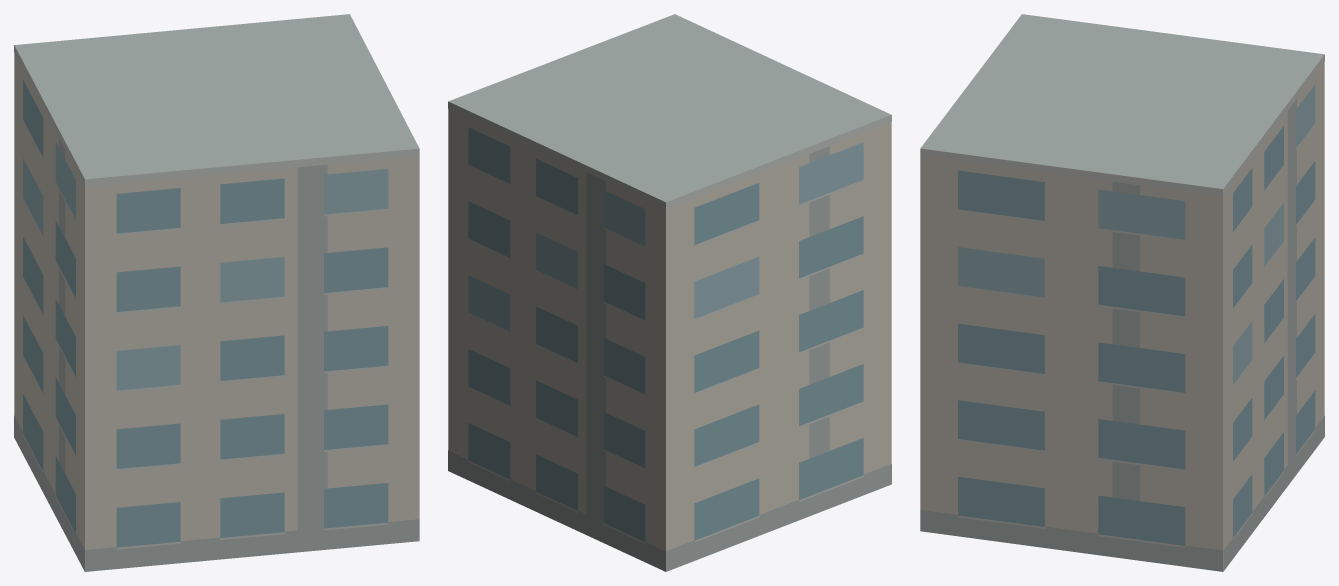
Rendered from survey-upis-33012362.glb.
3 renders of one model, left to right at view 1: azimuth 30°, elevation 25°; view 2: azimuth 150°, elevation 25°; view 3: azimuth 270°, elevation 25°, orthographic. The views are drawn at different scales.
Visible parts, largest first — view 1: survey-upis-33012362.tmp; view 2: survey-upis-33012362.tmp; view 3: survey-upis-33012362.tmp.
Part boxes in pixels (bbox=[...]): survey-upis-33012362.tmp: bbox=[14, 14, 419, 571]; survey-upis-33012362.tmp: bbox=[448, 14, 891, 571]; survey-upis-33012362.tmp: bbox=[920, 14, 1324, 571].
Bounding box in the file's own units: 12.42 × 12.65 × 12.13.
